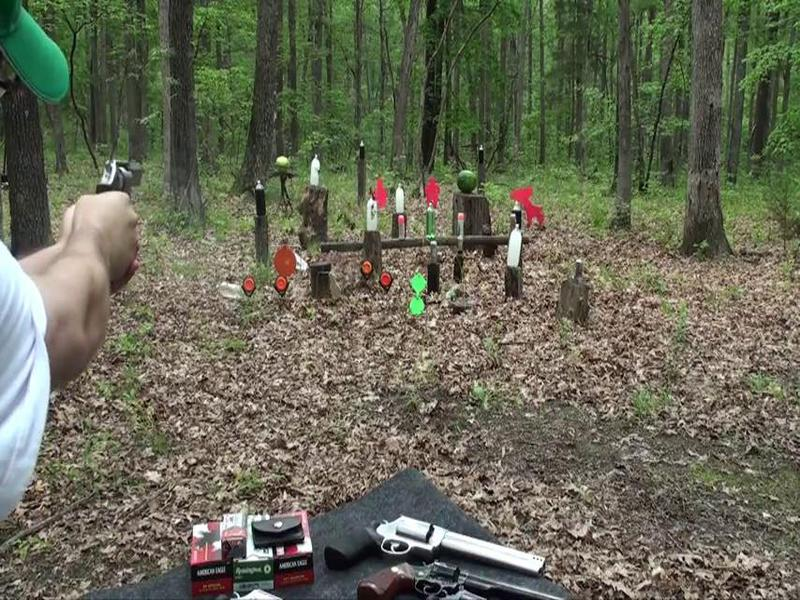Revolver: (91, 136, 162, 229)
